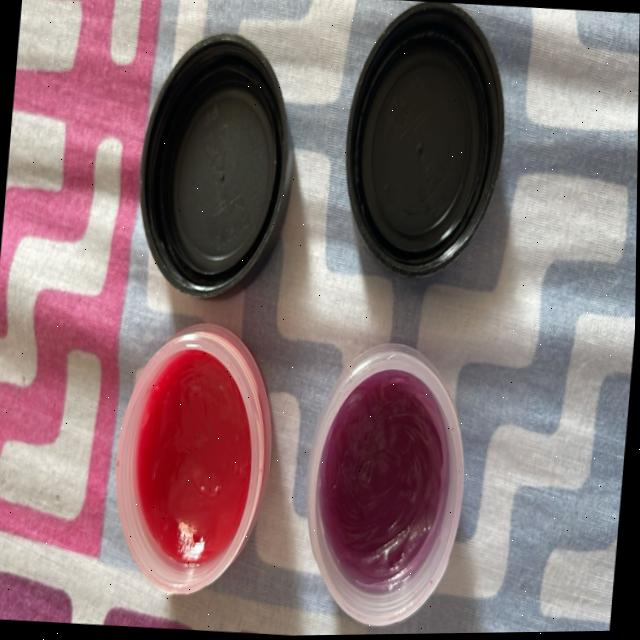lip gloss: (289, 328, 516, 637), (99, 322, 296, 613)
